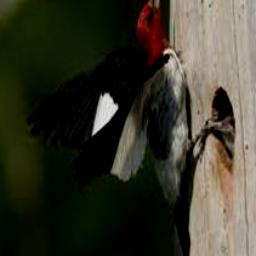Woodpecker: (29, 0, 233, 256)
